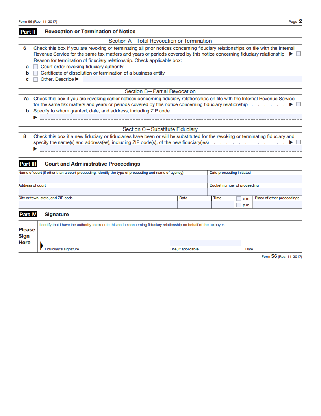checkbox: (295, 50, 302, 58), (32, 62, 39, 70), (32, 75, 39, 83), (32, 69, 39, 76), (235, 195, 242, 202), (235, 201, 242, 208), (295, 101, 302, 108), (295, 138, 302, 145)
textbox: (17, 169, 210, 185), (17, 181, 210, 196), (17, 194, 179, 210), (206, 168, 305, 184), (205, 181, 305, 196), (251, 194, 304, 209), (175, 194, 213, 209), (209, 194, 235, 209)
textline: (81, 75, 306, 84), (38, 114, 301, 121), (38, 145, 301, 152), (45, 241, 168, 248), (168, 241, 244, 248), (244, 240, 304, 248)
